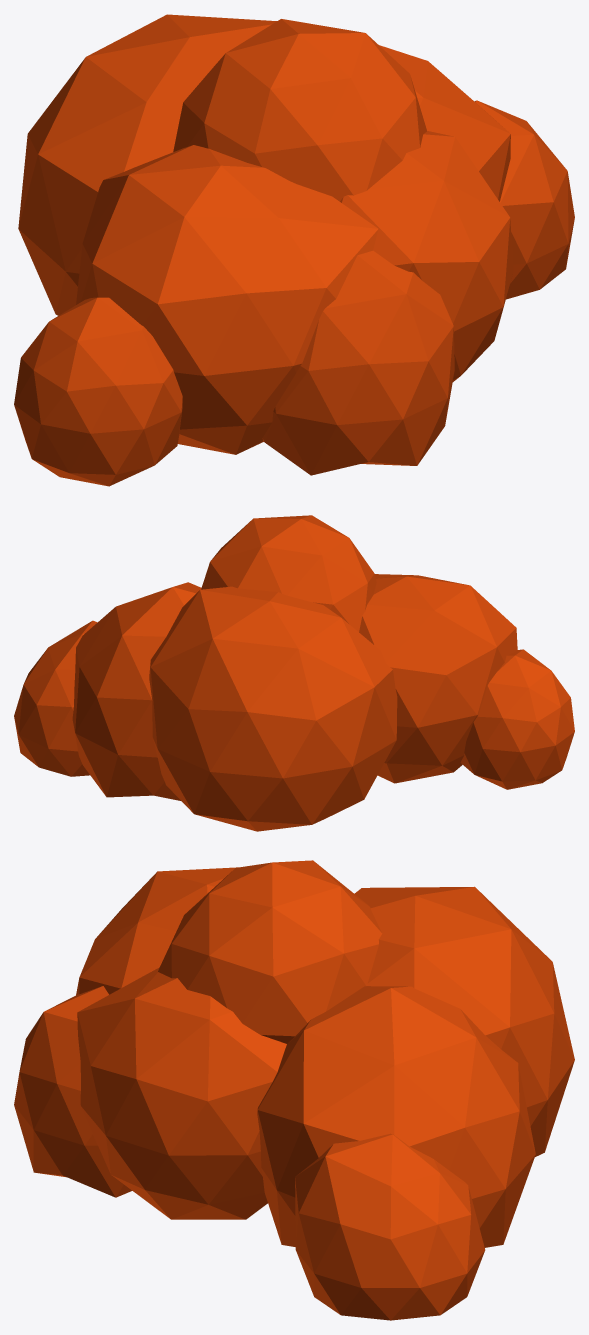
File: Bush4.fbx
3 views of the same model, one above another, from view 1: azimuth 30°, elevation 25°; view 2: azimuth 150°, elevation 25°; view 3: azimuth 270°, elevation 25° (orthographic). The views are drawn at different scales.
Parts seen in each view (by area): view 1: Bush4; view 2: Bush4; view 3: Bush4.
Part boxes in pixels (x1=…): Bush4: x1=14, y1=14, x2=574, y2=486; Bush4: x1=14, y1=515, x2=574, y2=831; Bush4: x1=14, y1=860, x2=574, y2=1320.
Bounding box in the file's own units: 606 × 303 × 488.
